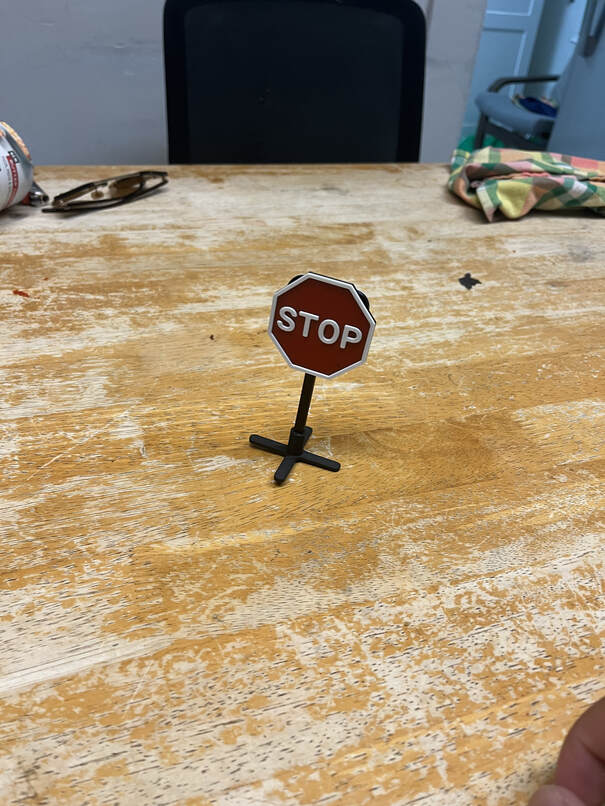sign_stop: (264, 272, 374, 379)
